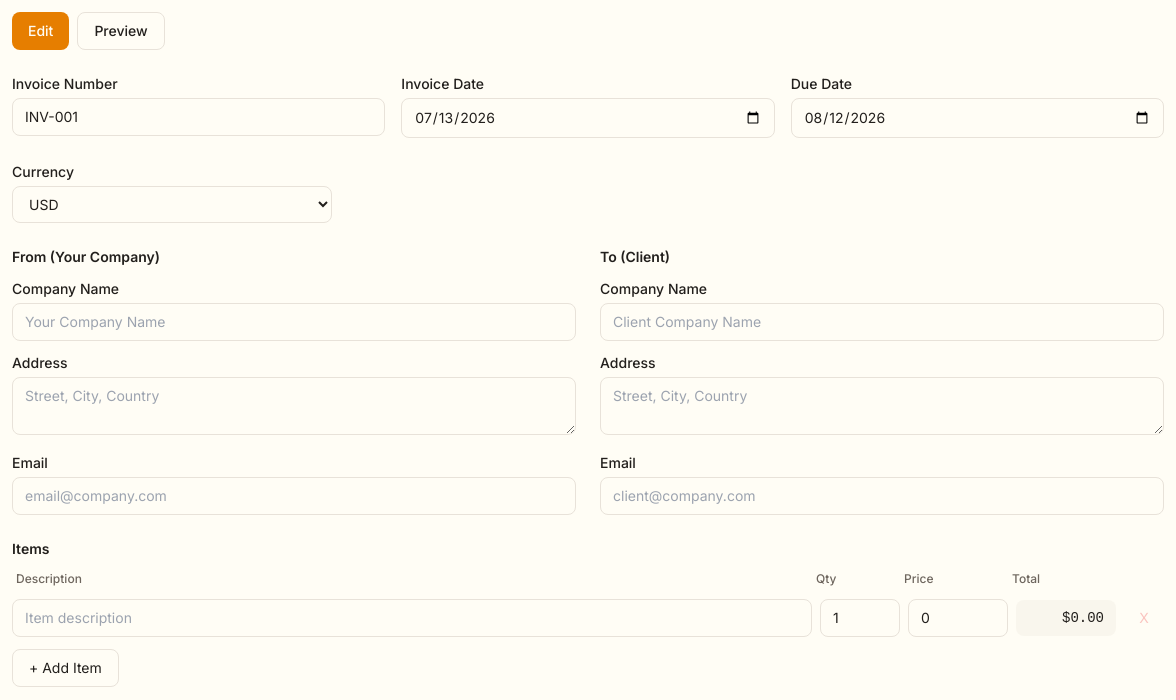
Test: InvoiceGenerator › adds a new item row
Click the button "+ Add Item" at {"x": 65, "y": 668}, box [12, 649, 119, 687]
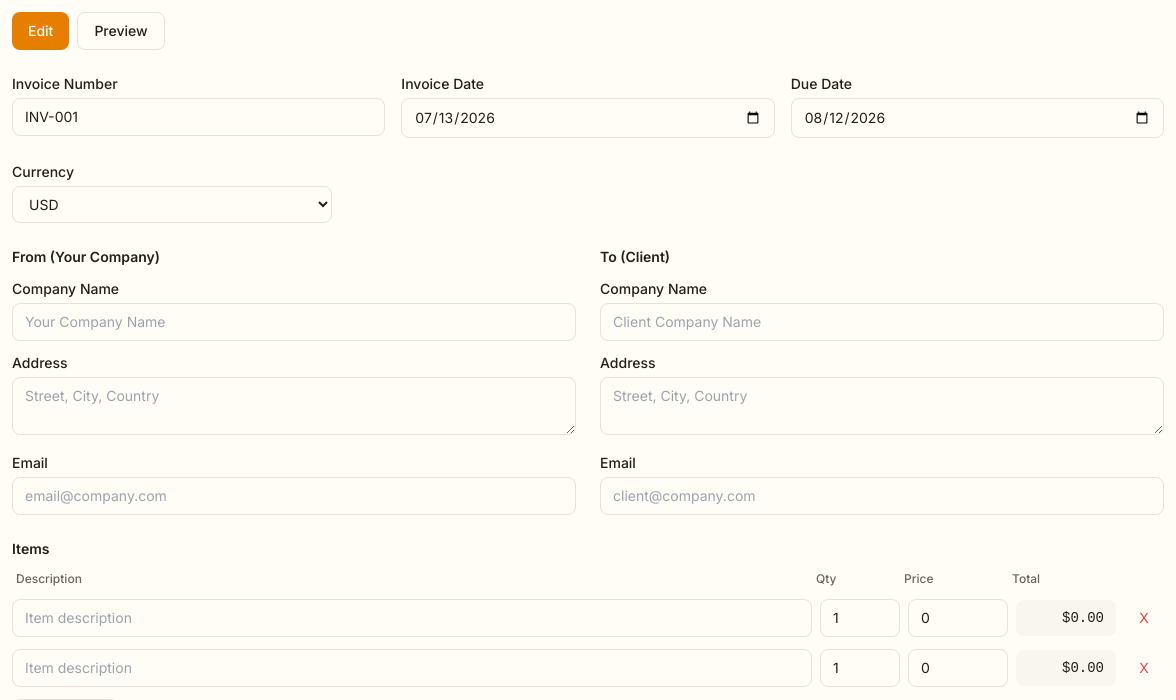
Now the number of fields labelled "Item description" is 2, box [12, 599, 812, 637]; [12, 649, 812, 687]
